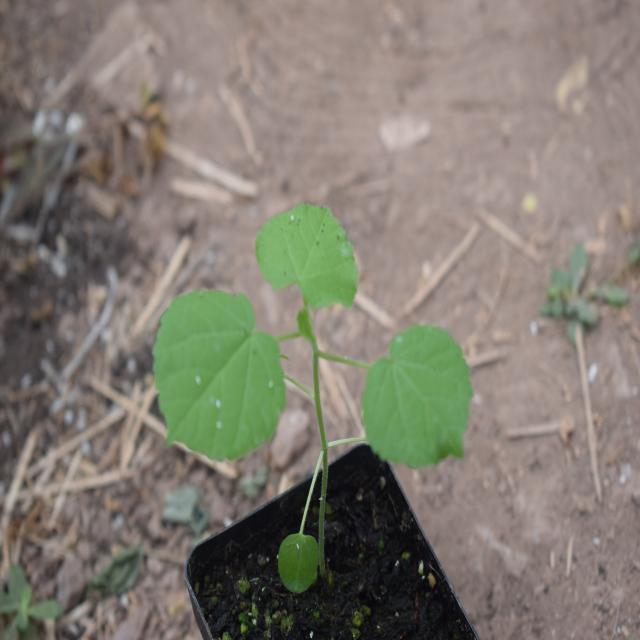abutilon theophrasti: (135, 168, 463, 568)
